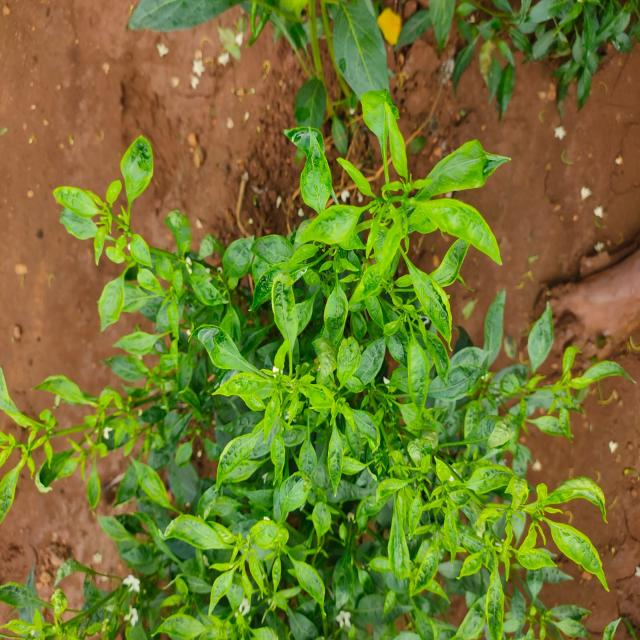Moko: (387, 355, 640, 640), (244, 116, 510, 331), (192, 266, 406, 498), (123, 477, 340, 640), (34, 120, 182, 347), (0, 335, 164, 508)
